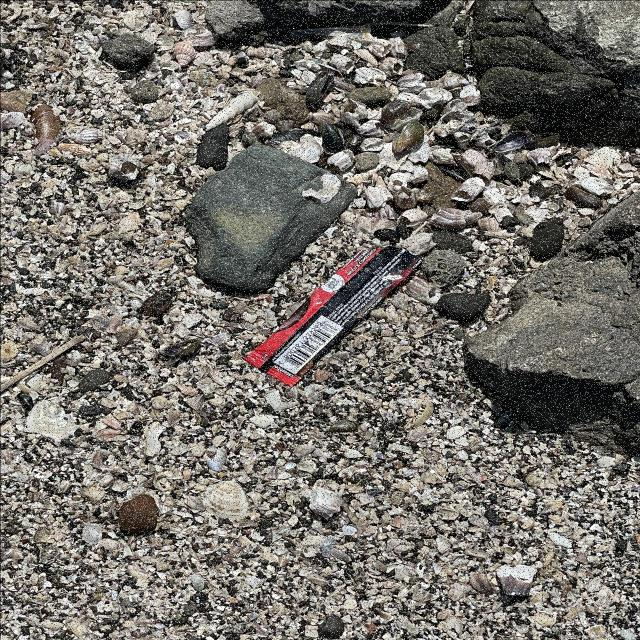plastic_waste: (245, 247, 422, 388)
